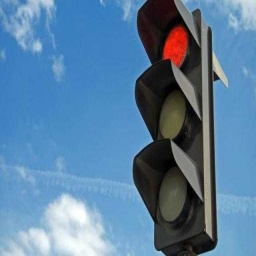traffic light: (133, 1, 218, 256)
